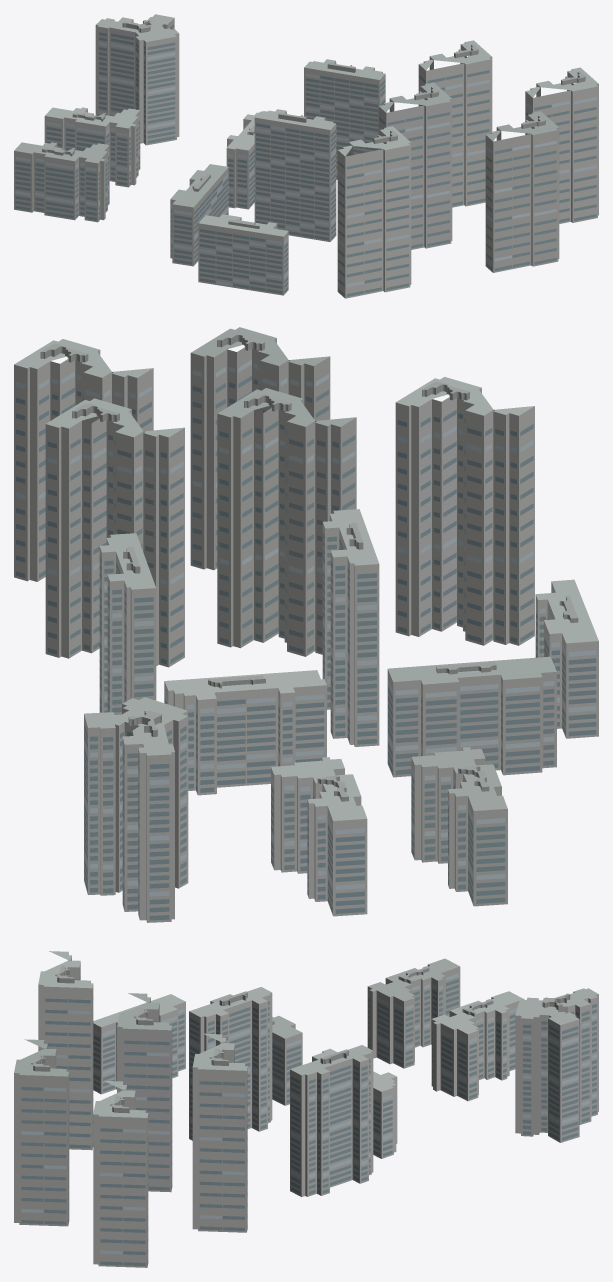
File: apt-a10025461.glb
The picture shows the model from 3 angles, top to bottom: view 1: azimuth 30°, elevation 25°; view 2: azimuth 150°, elevation 25°; view 3: azimuth 270°, elevation 25°; orthographic projection. The views are drawn at different scales.
Visible parts, largest first — view 1: apt-a10025461; view 2: apt-a10025461; view 3: apt-a10025461.
Boxes of the visible parts, x1,y1,x2,y2 form: apt-a10025461: [14, 14, 598, 298]; apt-a10025461: [14, 327, 598, 922]; apt-a10025461: [14, 951, 598, 1267].
Bounding box in the file's own units: 259 × 83 × 264.
